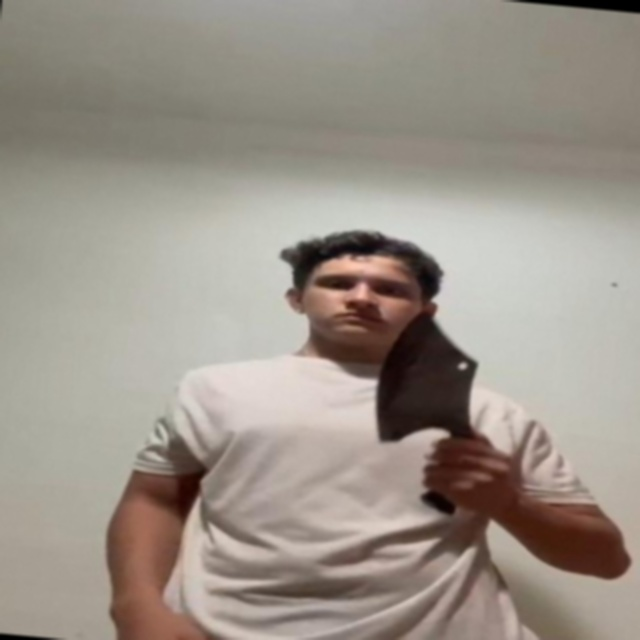Sharp-Object: (374, 308, 484, 446)
